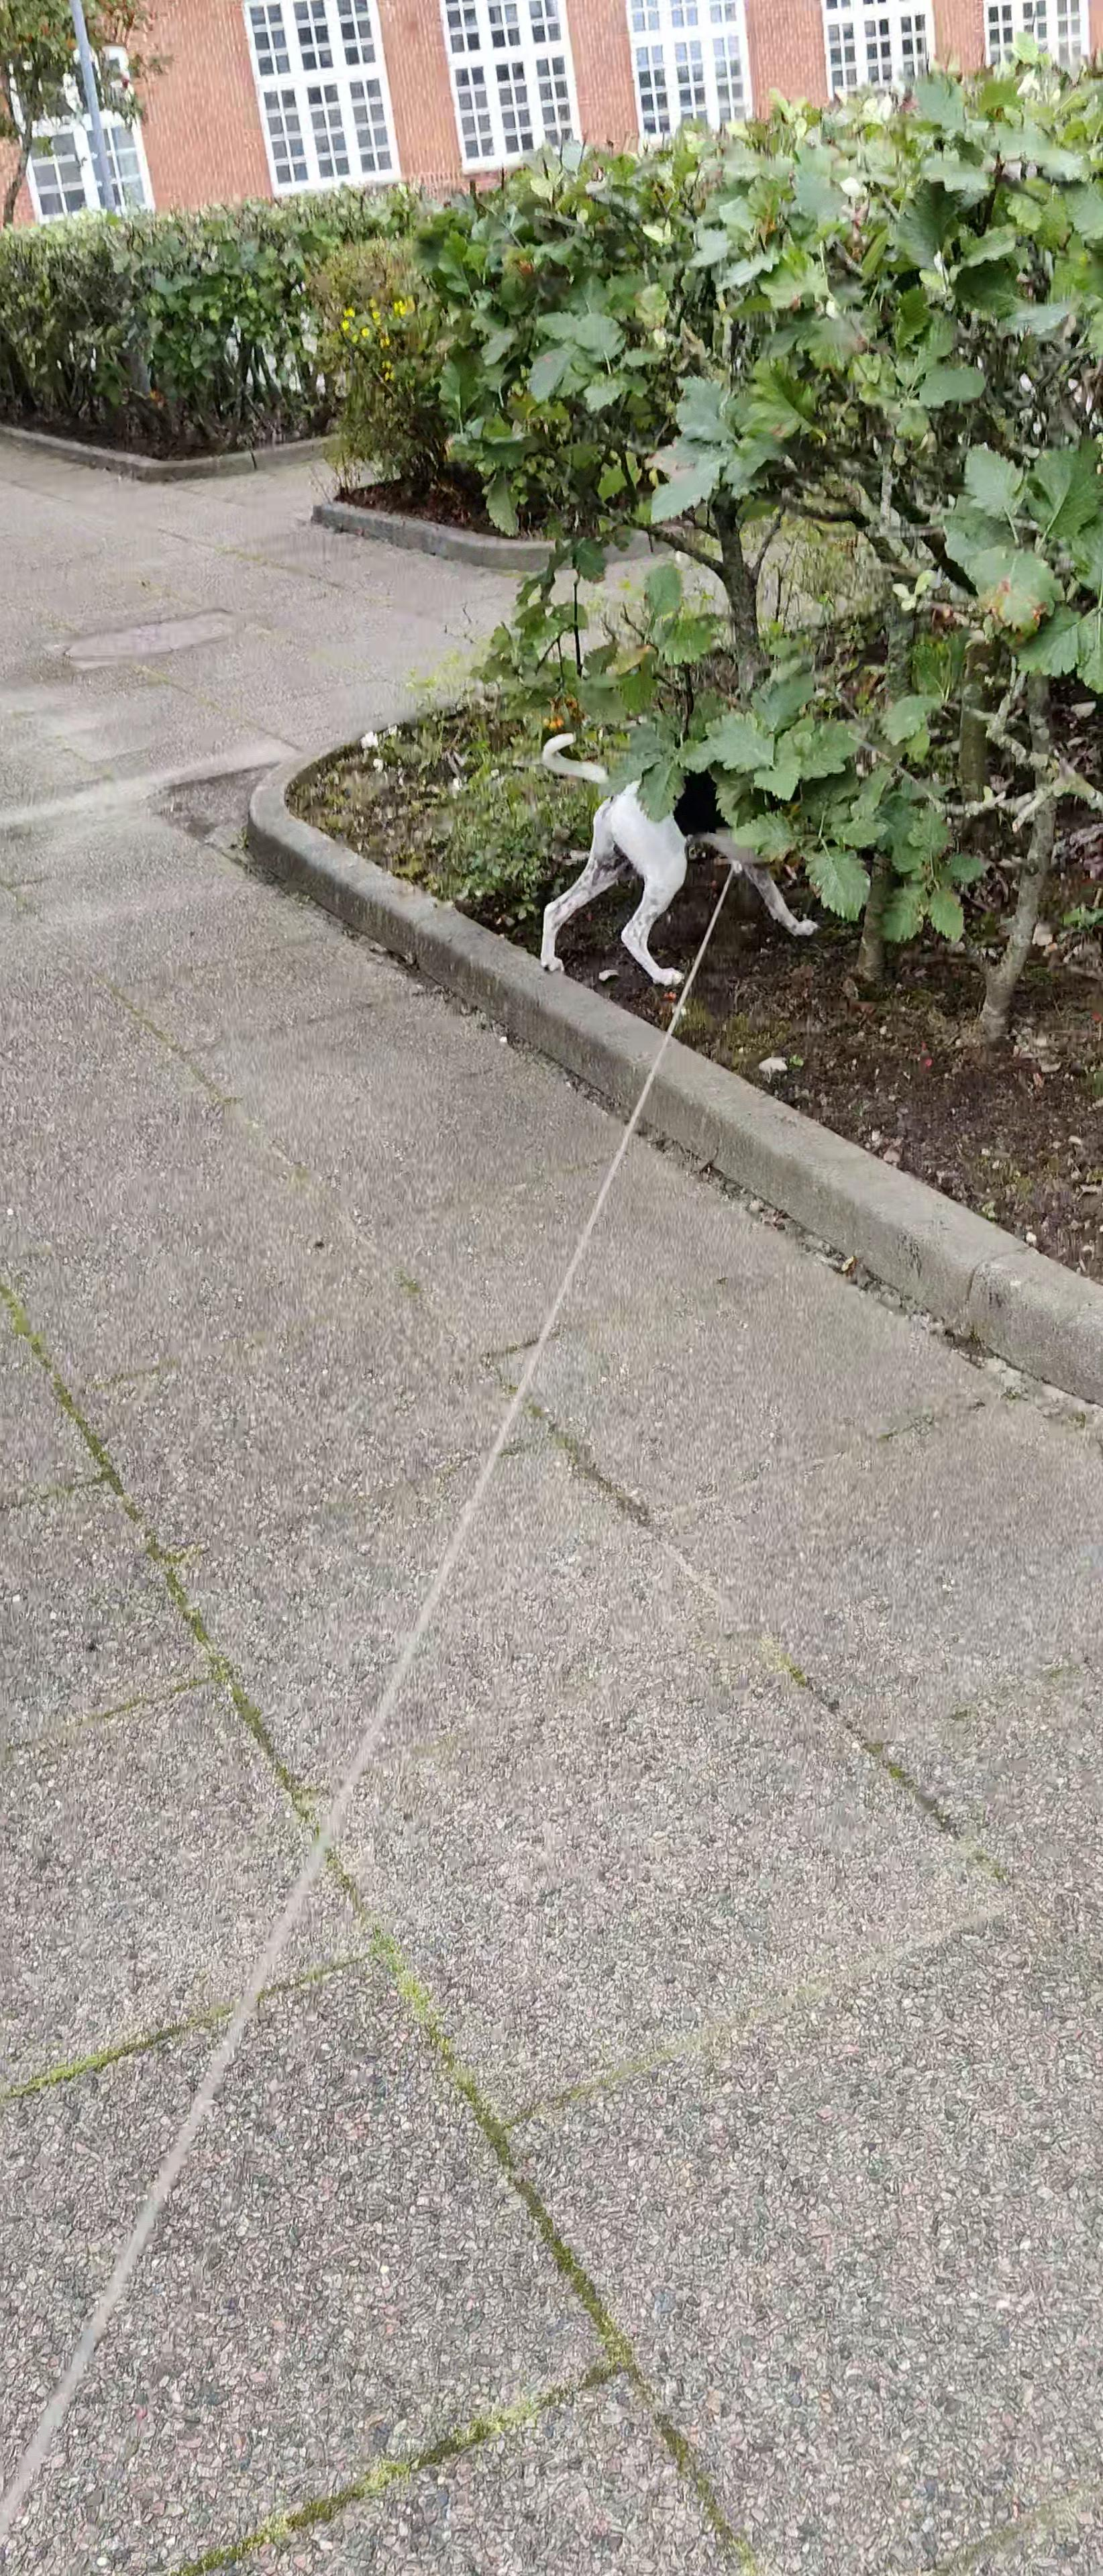Dog: (533, 721, 827, 989)
